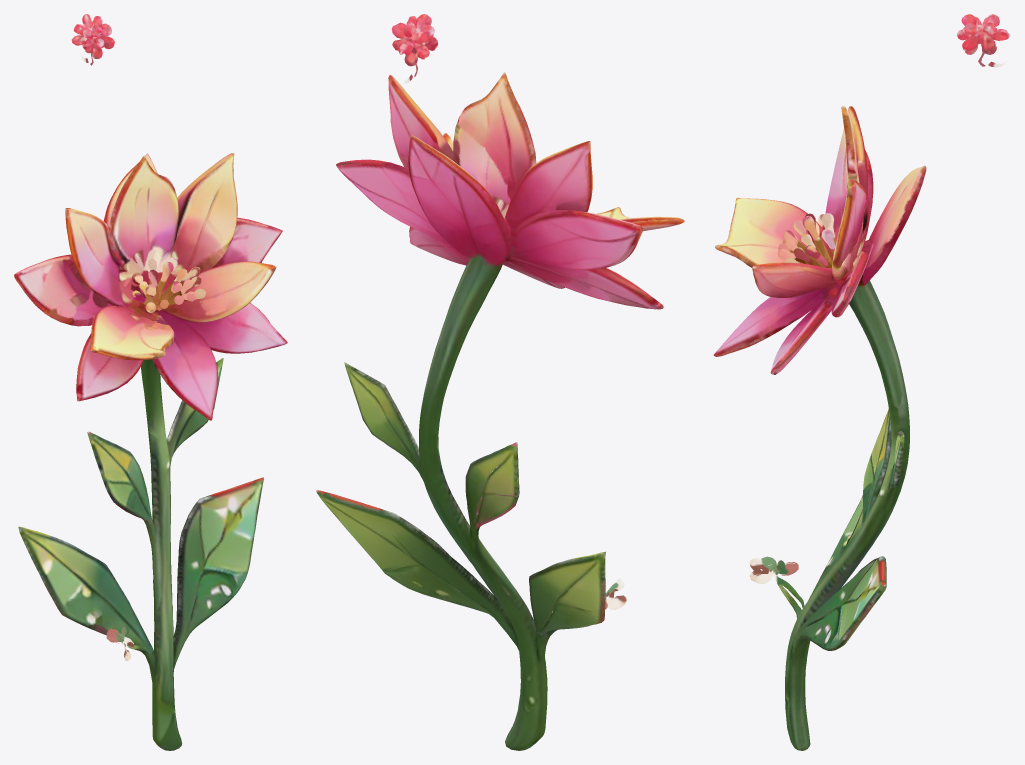
The model's file is Flor.fbx.
The picture shows the model from 3 angles, left to right: view 1: azimuth 30°, elevation 25°; view 2: azimuth 150°, elevation 25°; view 3: azimuth 270°, elevation 25°; orthographic projection. The views are drawn at different scales.
Parts seen in each view (by area): view 1: Flor; view 2: Flor; view 3: Flor.
Boxes of the visible parts, x1,y1,x2,y2 form: Flor: (14, 14, 287, 750); Flor: (316, 14, 684, 750); Flor: (713, 14, 1010, 750).
Bounding box in the file's own units: 40.98 × 100 × 36.61.
